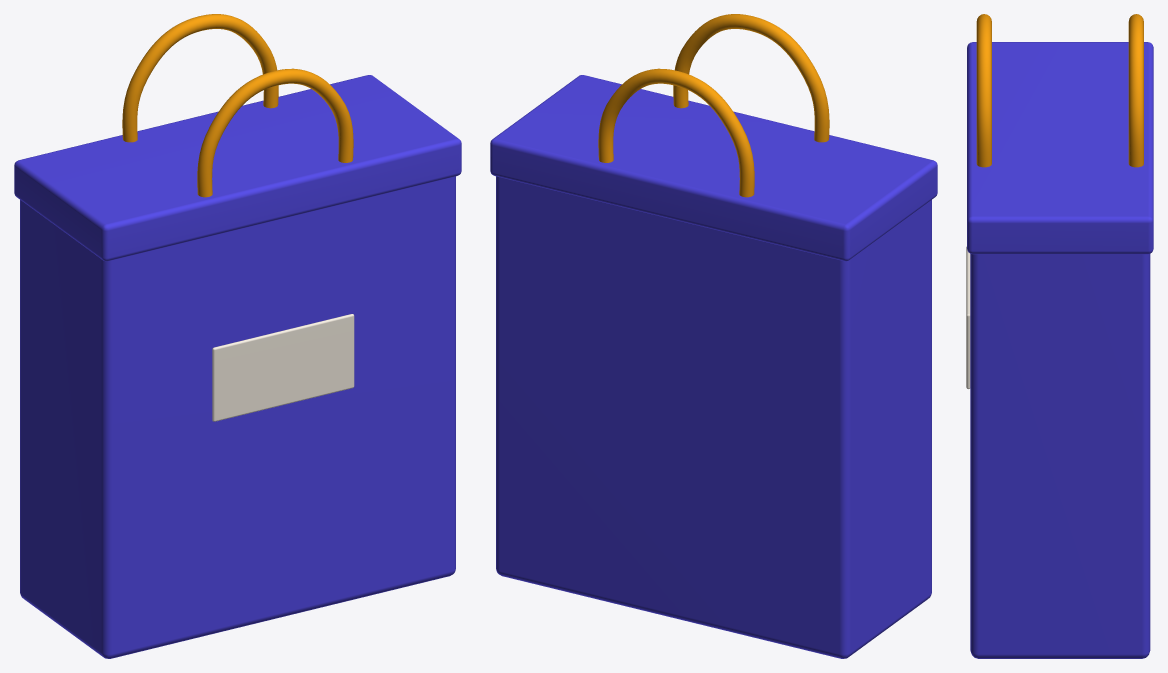
The model's file is hero-shopping-bag.glb.
The picture shows the model from 3 angles, left to right: view 1: azimuth 30°, elevation 25°; view 2: azimuth 150°, elevation 25°; view 3: azimuth 270°, elevation 25°; orthographic projection.
Parts seen in each view (by area): view 1: Bag, Rim, Label, Handle, Handle.001; view 2: Bag, Rim, Handle.001, Handle; view 3: Bag, Rim, Handle, Handle.001, Label.
Boxes of the visible parts, box(x1,y1,x2,y2) form: Bag: box(20, 176, 455, 658); Rim: box(14, 75, 461, 261); Label: box(212, 314, 354, 421); Handle: box(197, 68, 353, 197); Handle.001: box(122, 14, 278, 142); Bag: box(496, 176, 931, 658); Rim: box(490, 75, 937, 261); Handle.001: box(598, 68, 754, 197); Handle: box(673, 14, 829, 142); Bag: box(970, 253, 1150, 658); Rim: box(967, 42, 1153, 254); Handle: box(976, 14, 991, 167); Handle.001: box(1128, 14, 1143, 167); Label: box(966, 246, 970, 389).
Bounding box in the file's own units: 0.61 × 0.881 × 0.271.
